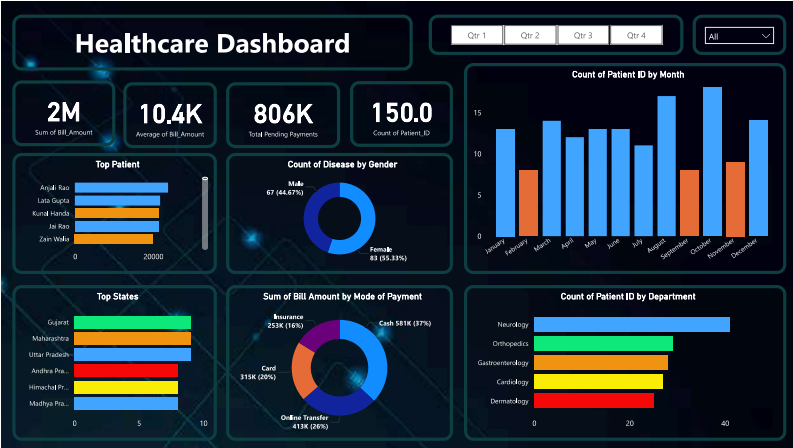

This screenshot's page, from the dashboard's own definition file:
{"tool":"powerbi","page":{"name":"Page 1","canvas":[1280,720],"ordinal":0},"visuals":[{"type":"lineStackedColumnComboChart","title":"Count of Patient ID by Month","fields":{"Category":["Health dataset.Admission_Date.Variation.Date Hierarchy.Month"],"Y":["Health dataset.Patient_ID"]},"box":[746.6,99.2,520.5,339.9],"z":0},{"type":"donutChart","title":"Sum of Bill Amount by Mode of Payment","fields":{"Category":["Health dataset.Mode_of_Payment"],"Y":["Health dataset.Bill_Amount"]},"box":[362.7,457.1,366,250.5],"z":1000},{"type":"textbox","box":[17.9,21.1,645.7,89.5],"z":2000},{"type":"card","fields":{"Values":["Health dataset.Bill_Amount"]},"box":[17.9,126.9,165.9,105.7],"z":3000},{"type":"card","fields":{"Values":["Health dataset.Bill_Amount"]},"box":[196.8,130.1,151.3,105.7],"z":4000},{"type":"card","fields":{"Values":["Health dataset.Total Pending Payments"]},"box":[362.7,130.1,183.8,105.7],"z":5000},{"type":"card","fields":{"Values":["Health dataset.Patient_ID"]},"box":[562.8,128.5,165.9,105.7],"z":6000},{"type":"barChart","title":"Count of Patient ID by Department","fields":{"Y":["Health dataset.Patient_ID"],"Category":["Health dataset.Department"]},"box":[746.6,457.1,520.5,250.5],"z":7000},{"type":"barChart","title":"Top States","fields":{"Category":["Health dataset.States"],"Y":["Health dataset.Patient_ID"]},"box":[17.9,457.1,330.2,250.5],"z":8000},{"type":"barChart","title":"Top Patient","fields":{"Category":["Health dataset.Patient_Name"],"Y":["Health dataset.Bill_Amount"]},"box":[17.9,244,330.2,195.2],"z":9000},{"type":"donutChart","fields":{"Category":["Health dataset.Gender"],"Y":["Health dataset.Disease "]},"box":[362.7,244,366,195.2],"z":10000},{"type":"slicer","fields":{"Values":["Health dataset.Admission_Date.Variation.Date Hierarchy.Quarter"]},"box":[689.7,21.1,411.5,65.1],"z":11000},{"type":"slicer","fields":{"Values":["Health dataset.States"]},"box":[1115.8,21.1,151.3,65.1],"z":11001}]}

Visuals, with their boxes in screenshot pixels (x1, y1, x2, y2), scaled from the page's 1280x720 canvas onto the 793x448 screenshot:
"Count of Patient ID by Month" lineStackedColumnComboChart: detection(463, 62, 785, 273)
"Sum of Bill Amount by Mode of Payment" donutChart: detection(225, 284, 451, 440)
textbox: detection(11, 13, 411, 69)
card - Health dataset.Bill_Amount: detection(11, 79, 114, 145)
card - Health dataset.Bill_Amount: detection(122, 81, 216, 147)
card - Health dataset.Total Pending Payments: detection(225, 81, 339, 147)
card - Health dataset.Patient_ID: detection(349, 80, 451, 146)
"Count of Patient ID by Department" barChart: detection(463, 284, 785, 440)
"Top States" barChart: detection(11, 284, 216, 440)
"Top Patient" barChart: detection(11, 152, 216, 273)
donutChart - Health dataset.Gender x Health dataset.Disease : detection(225, 152, 451, 273)
slicer - Health dataset.Admission_Date.Variation.Date Hierarchy.Quarter: detection(427, 13, 682, 54)
slicer - Health dataset.States: detection(691, 13, 785, 54)
